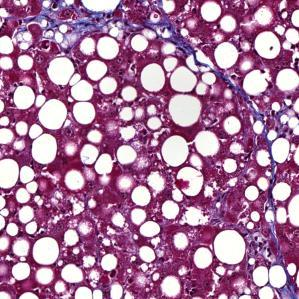fibrosis: (65, 14, 125, 43)
